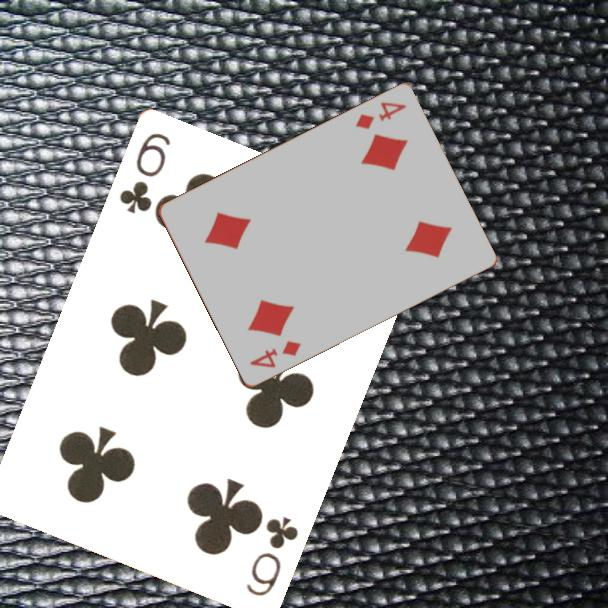c06: (243, 514, 302, 600), (116, 130, 174, 217)
d04: (246, 337, 304, 371), (352, 99, 409, 132)
